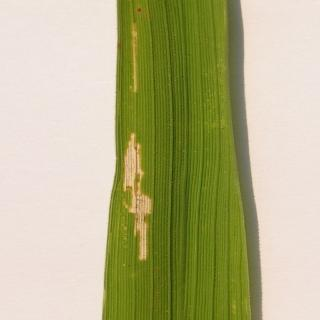Hawar-Daun: (109, 9, 174, 272)
